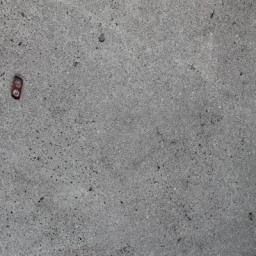FOD: (7, 75, 27, 102)
